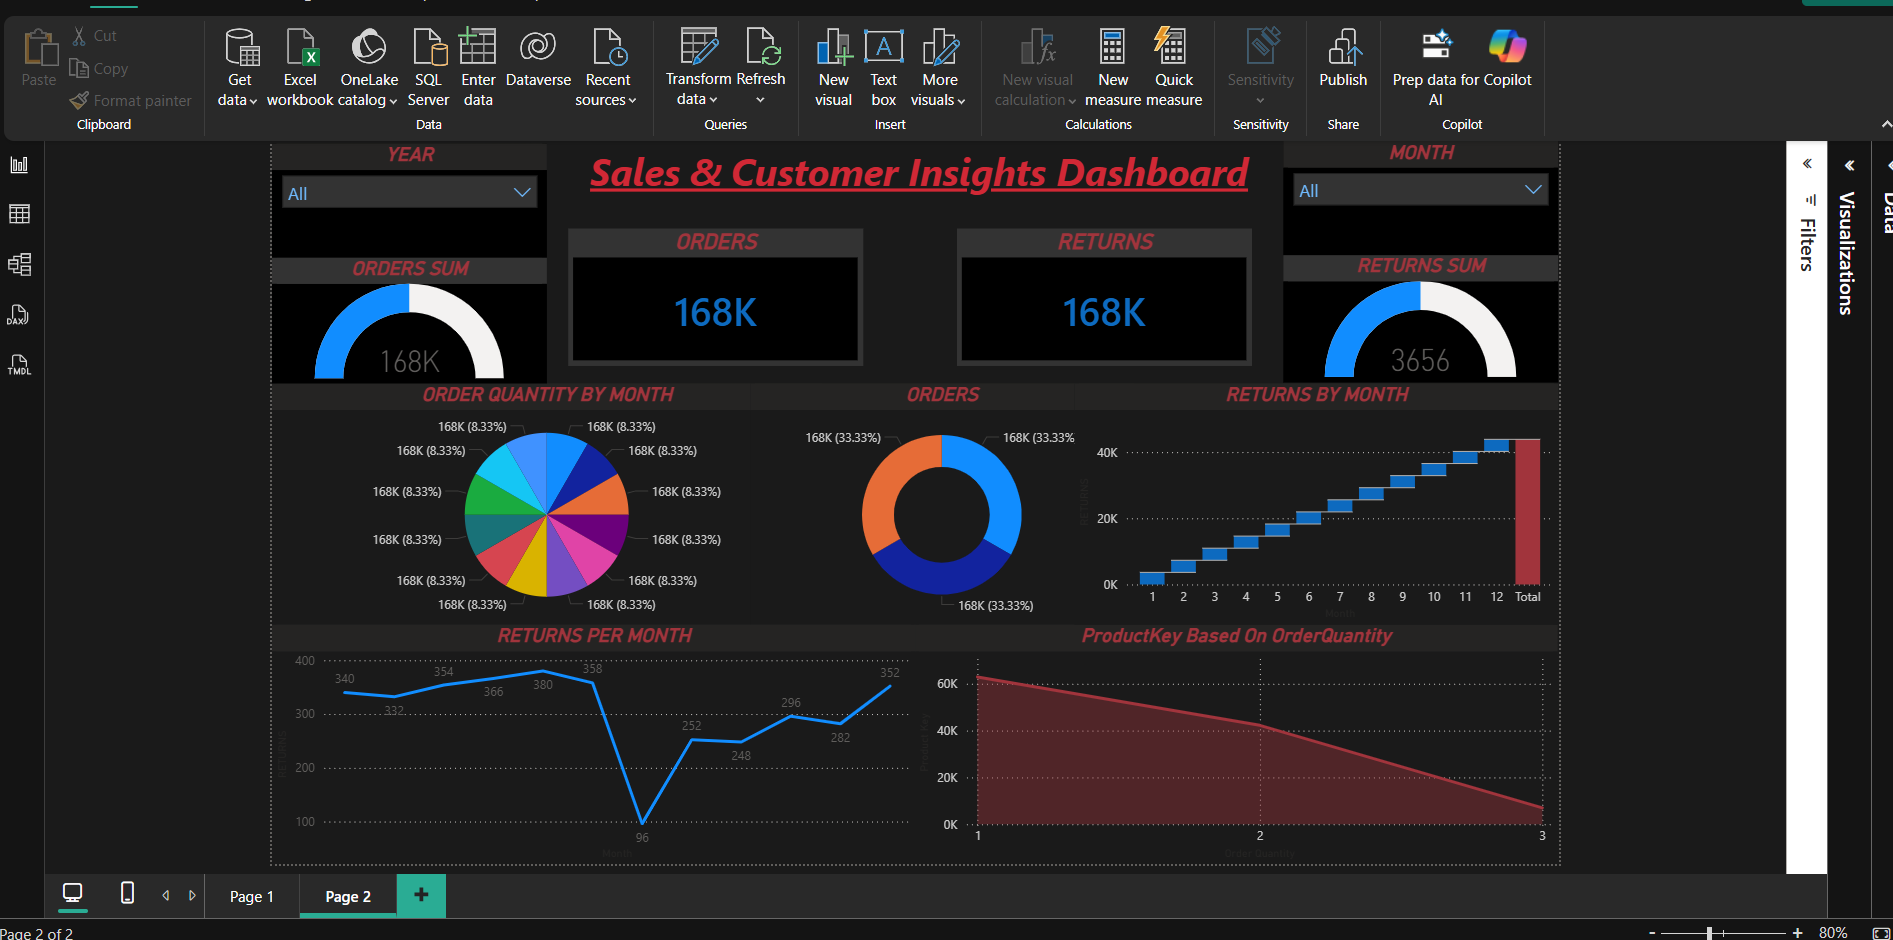

What the dashboard file says about the page in this screenshot:
{"tool":"powerbi","page":{"name":"Page 2","canvas":[1280,720],"ordinal":1},"visuals":[{"type":"pieChart","title":"ORDER QUANTITY BY MONTH","fields":{"Category":["gold extcalendar.Month"],"Y":["Sum(gold extsales.OrderQuantity)"]},"box":[0,241.4,547.1,240],"z":0},{"type":"donutChart","title":"ORDERS","fields":{"Category":["gold extcustomers.Gender"],"Y":["Sum(gold extsales.OrderQuantity)"]},"box":[476.4,241.3,380.7,240.1],"z":1000},{"type":"areaChart","title":"ProductKey Based On OrderQuantity","fields":{"Category":["gold extsales.OrderQuantity"],"Y":["CountNonNull(gold extsales.ProductKey)"]},"box":[640,481.4,640,238.6],"z":2000},{"type":"lineChart","title":"RETURNS  PER MONTH","fields":{"Category":["gold extreturns.ReturnDate.Variation.Date Hierarchy.Month"],"Y":["Sum(gold extreturns.ReturnQuantity)"]},"box":[0,481.4,640,238.6],"z":3000},{"type":"textbox","box":[257.1,0,772.9,101.4],"z":4000},{"type":"gauge","fields":{"Y":["Sum(gold extreturns.ReturnQuantity)"]},"box":[1006.4,113.2,273.7,126.9],"z":5000},{"type":"waterfallChart","title":"RETURNS BY MONTH","fields":{"Category":["gold extcalendar.Month"],"Y":["Sum(gold extreturns.ReturnQuantity)"]},"box":[798.6,241.4,481.4,240],"z":6000},{"type":"slicer","title":"MONTH","fields":{"Values":["gold extcalendar.MonthName"]},"box":[1006.4,0,273.7,113.2],"z":7000},{"type":"cardVisual","title":"ORDERS","fields":{"Data":["Sum(gold extsales.OrderQuantity)"]},"box":[294.8,87.1,293.6,136.8],"z":8000},{"type":"gauge","fields":{"Y":["Sum(gold extsales.OrderQuantity)"]},"box":[0,115.7,273.7,125.6],"z":9000},{"type":"slicer","title":"YEAR","fields":{"Values":["gold extcalendar.MonthName"]},"box":[0,2.5,273.7,113.2],"z":10000},{"type":"cardVisual","title":"RETURNS","fields":{"Data":["Sum(gold extreturns.ReturnQuantity)"]},"box":[681.7,87.1,293.6,136.8],"z":11000}]}

Visuals, with their boxes on the page's 1280x720 design canvas (x1, y1, x2, y2). These are canvas units, not pixel positions in the 1893x940 screenshot, which may show the page scaled, cropped or inside an application window:
"ORDER QUANTITY BY MONTH" pieChart: <region>0, 241, 547, 481</region>
"ORDERS" donutChart: <region>476, 241, 857, 481</region>
"ProductKey Based On OrderQuantity" areaChart: <region>640, 481, 1280, 720</region>
"RETURNS  PER MONTH" lineChart: <region>0, 481, 640, 720</region>
textbox: <region>257, 0, 1030, 101</region>
gauge - Sum(gold extreturns.ReturnQuantity): <region>1006, 113, 1280, 240</region>
"RETURNS BY MONTH" waterfallChart: <region>799, 241, 1280, 481</region>
"MONTH" slicer: <region>1006, 0, 1280, 113</region>
"ORDERS" cardVisual: <region>295, 87, 588, 224</region>
gauge - Sum(gold extsales.OrderQuantity): <region>0, 116, 274, 241</region>
"YEAR" slicer: <region>0, 2, 274, 116</region>
"RETURNS" cardVisual: <region>682, 87, 975, 224</region>
